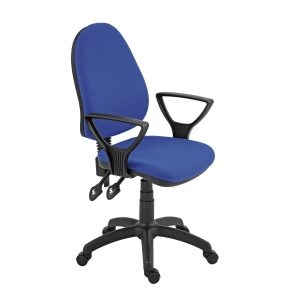chair: (70, 22, 219, 284)
